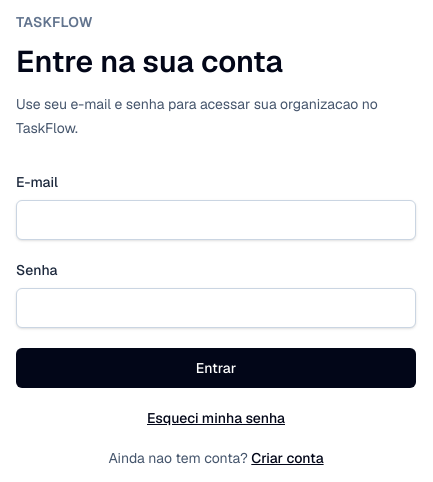
LoginPage › disables the button while logging in
The width and height of the screenshot is (433, 482).
Type "ana@example.com" into the field labelled "E-mail" at (216, 220), box [16,200,416,240]
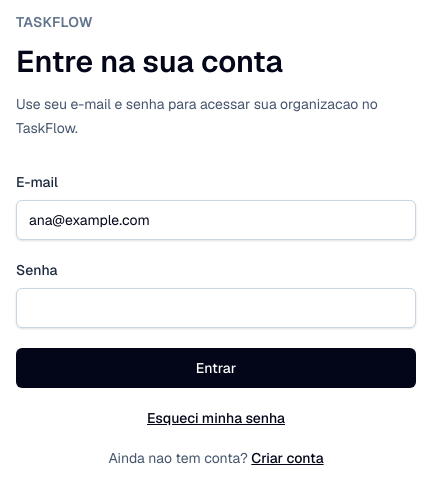
Type "Senha123" into the password field labelled "Senha" at (216, 308), box [16,288,416,328]
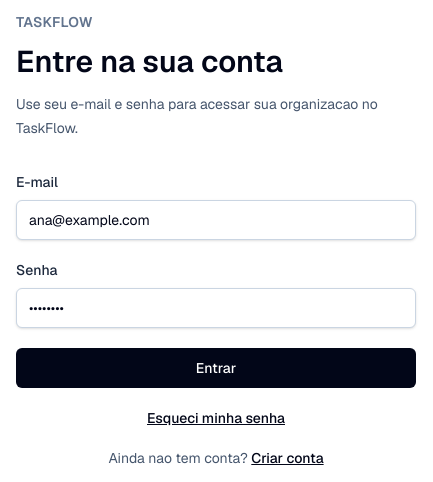
Click the button "Entrar" at (216, 368), box [16,348,416,388]
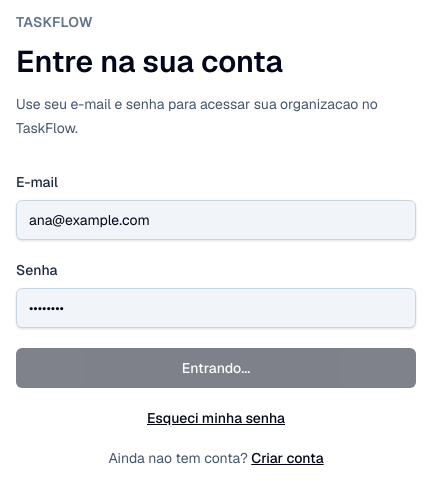
Check: the button "Entrando..." is disabled, box [16,348,416,388]
